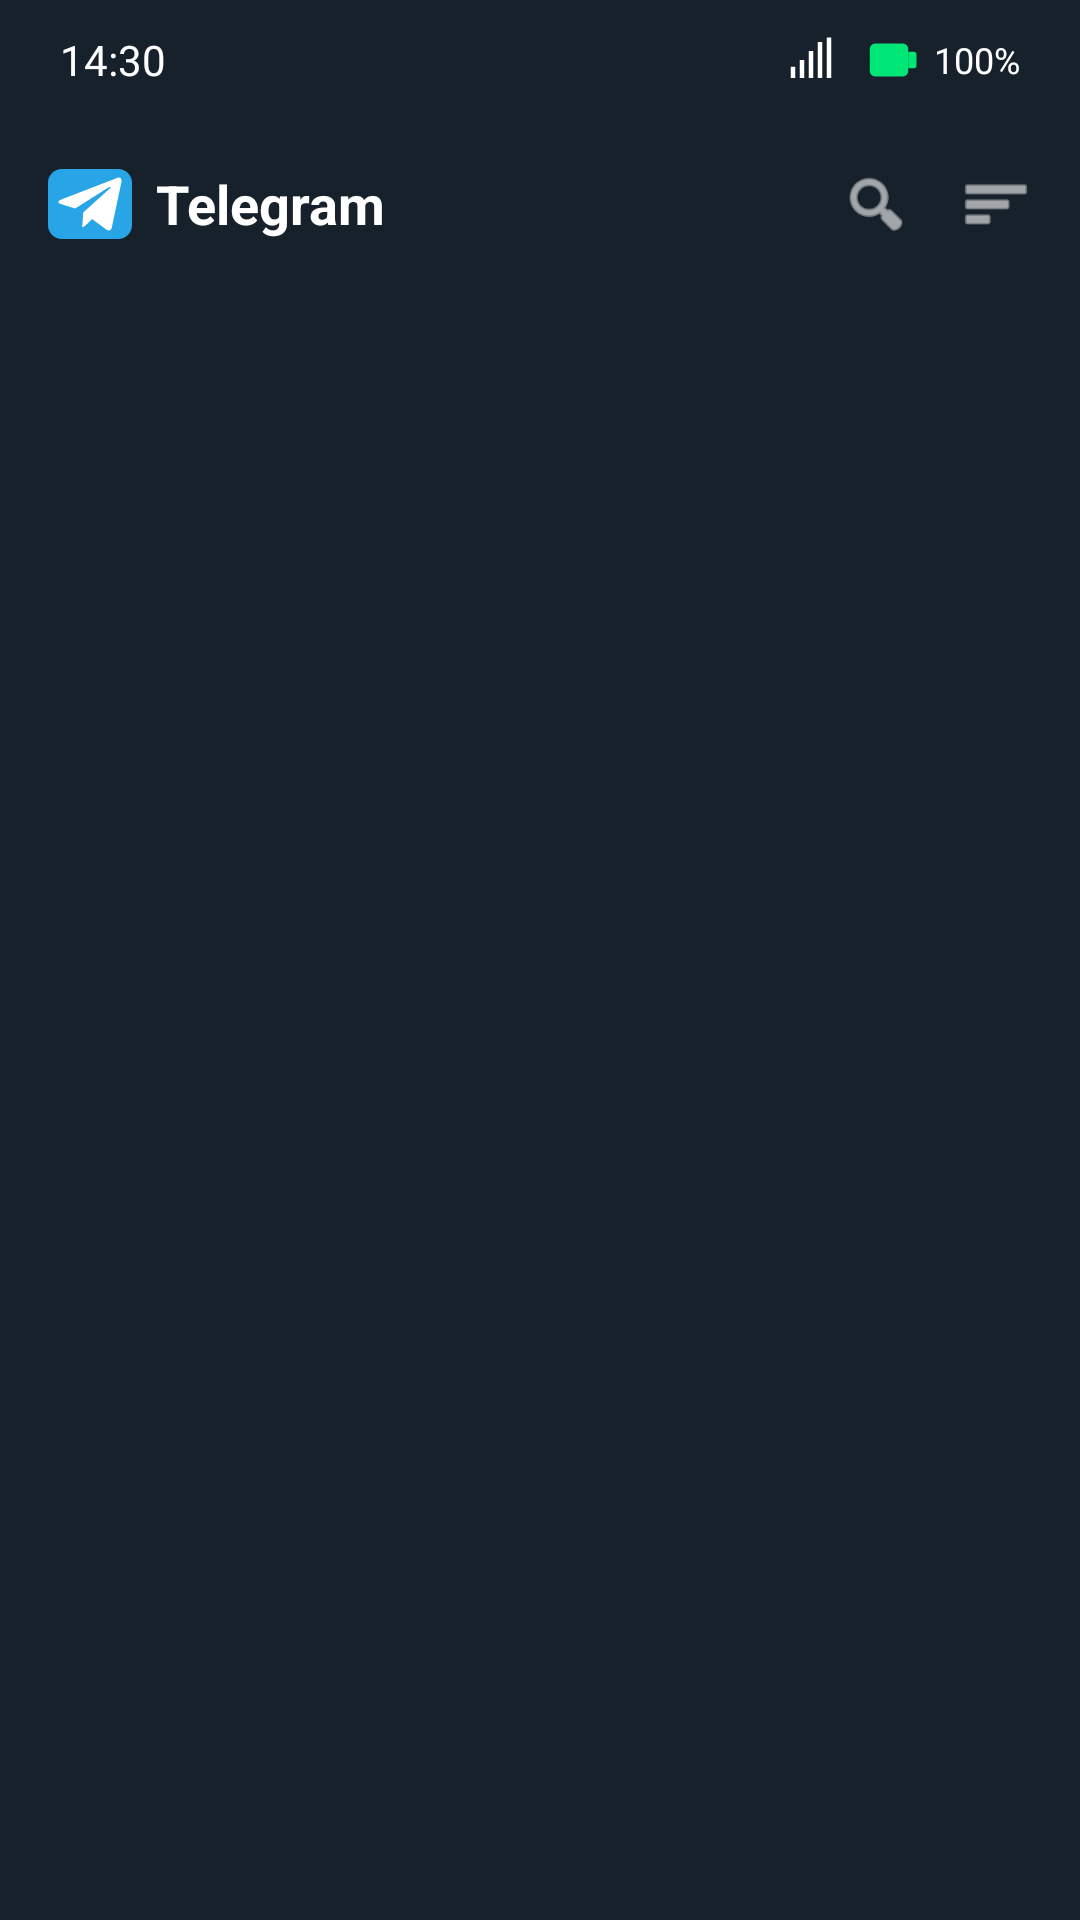

Named icons in this screenshot (1080px×1920px) and their centers, (x,y):
battery: (893,60)
search: (876,204)
signal: (811,57)
sort by size: (996,204)
